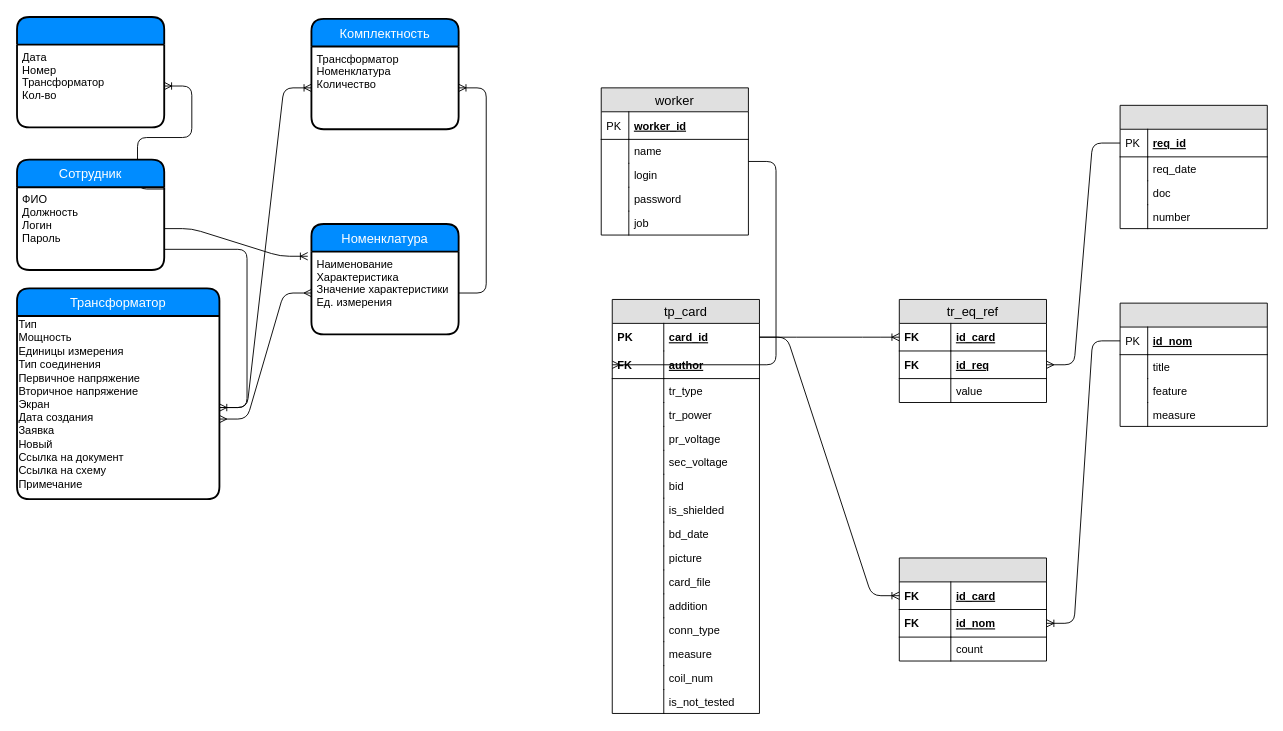
This 1283x731 diagram has some shape labels left out. The shapes that lost their labels are listed below. From the top down, each one's box as (x1, y1, x2, y2) in pixels, then its label:
(16, 16, 165, 128): Заказ
(1119, 104, 1267, 229): request
(1119, 302, 1267, 426): nomenclature
(898, 557, 1046, 661): tr_nom_ref
